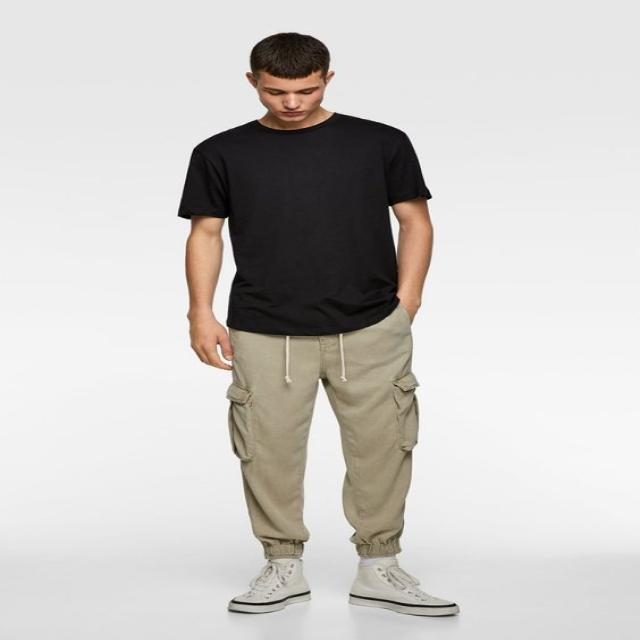Upper-Body: (182, 115, 434, 335)
